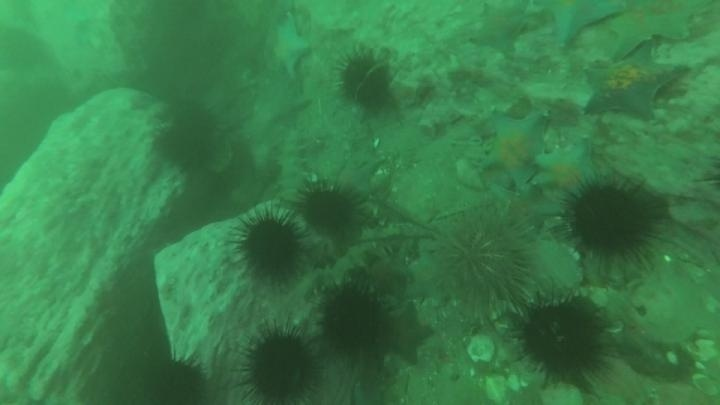echinus: (512, 291, 612, 384), (564, 181, 660, 260), (238, 325, 323, 404), (232, 208, 306, 283), (318, 283, 392, 356), (154, 102, 224, 172), (334, 48, 396, 113), (296, 181, 362, 236), (141, 352, 209, 405), (1, 25, 49, 73)
holothurian: (316, 222, 409, 288), (272, 128, 312, 207)
scallop: (517, 237, 585, 296)
starfish: (579, 44, 686, 122), (587, 2, 704, 60), (479, 109, 551, 191), (529, 1, 627, 48), (532, 141, 600, 200), (467, 3, 534, 55), (380, 303, 435, 365), (264, 16, 313, 78), (401, 249, 451, 304), (329, 153, 382, 198), (126, 90, 156, 113)
